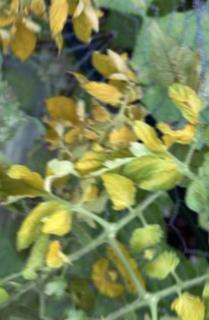Tomato leaf yellow virus: (115, 0, 209, 154), (109, 137, 192, 212), (166, 138, 209, 220), (29, 188, 87, 245)
